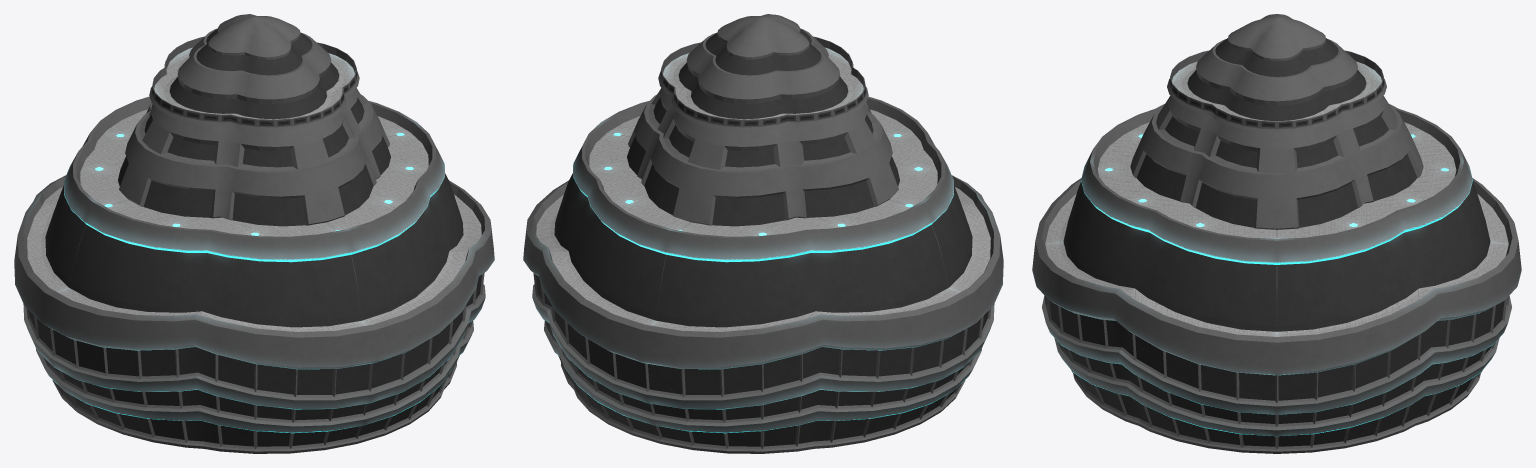
File: bldg_sQt_RS_000.FBX
3 views of the same model, side by side, from view 1: azimuth 30°, elevation 25°; view 2: azimuth 150°, elevation 25°; view 3: azimuth 270°, elevation 25° (orthographic).
Visible parts, largest first — view 1: bldg_sqt_RS_00; view 2: bldg_sqt_RS_00; view 3: bldg_sqt_RS_00.
Part boxes in pixels (left/top/right/bottom): bldg_sqt_RS_00: left=14, top=14, right=494, bottom=453; bldg_sqt_RS_00: left=523, top=14, right=1003, bottom=453; bldg_sqt_RS_00: left=1032, top=14, right=1521, bottom=453.
Size of the model in its own units: 62.01 by 49 by 62.04.
1 material, 1 textured.
